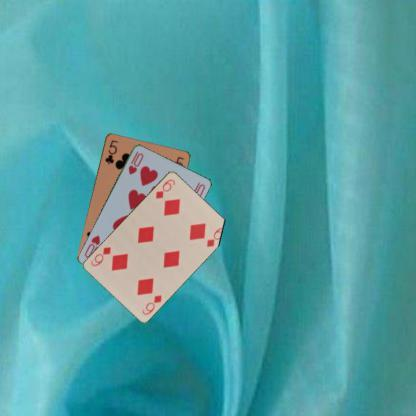10h: (126, 148, 144, 176)
5c: (102, 138, 119, 166)
6d: (139, 292, 163, 316), (153, 176, 176, 200)
